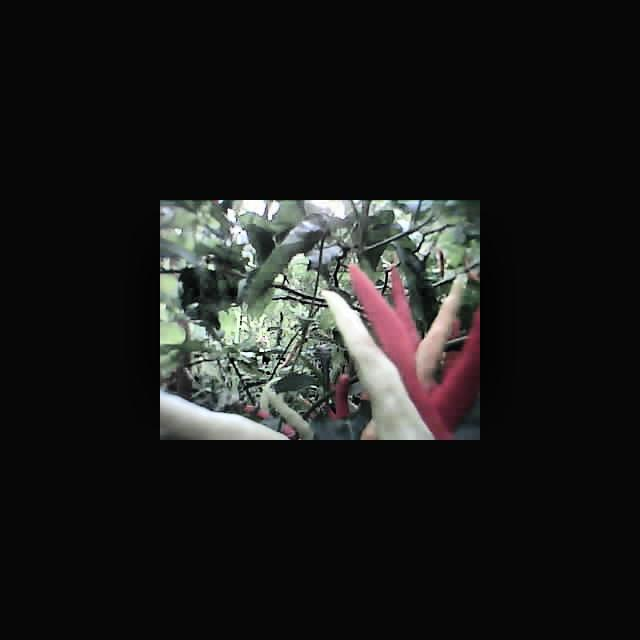Cabai: (350, 273, 417, 324), (326, 373, 361, 419)
